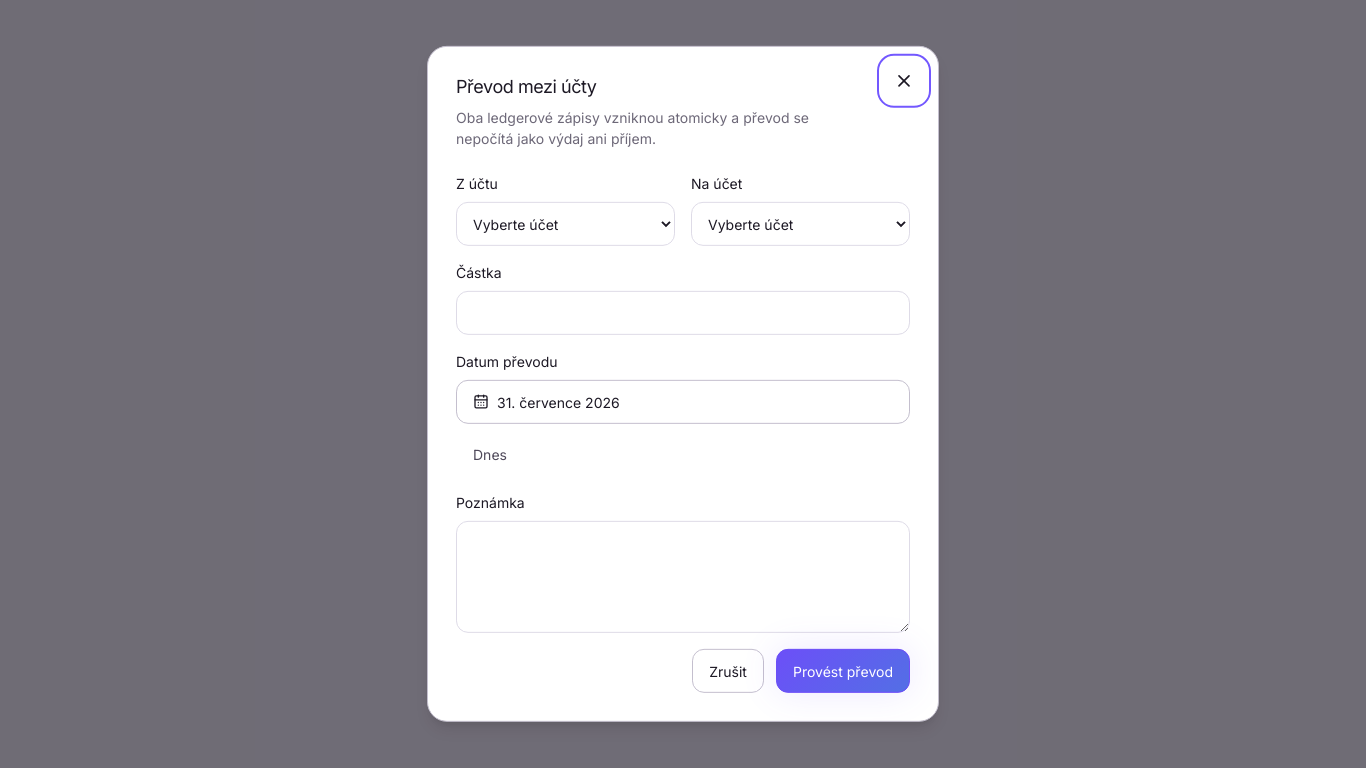
finance form contracts › rejects the same transfer account before any API mutation
The width and height of the screenshot is (1366, 768).
Select "Domácí účet · CZK" in the dropdown labelled "Z účtu" at (566, 224), box [456, 202, 675, 246]
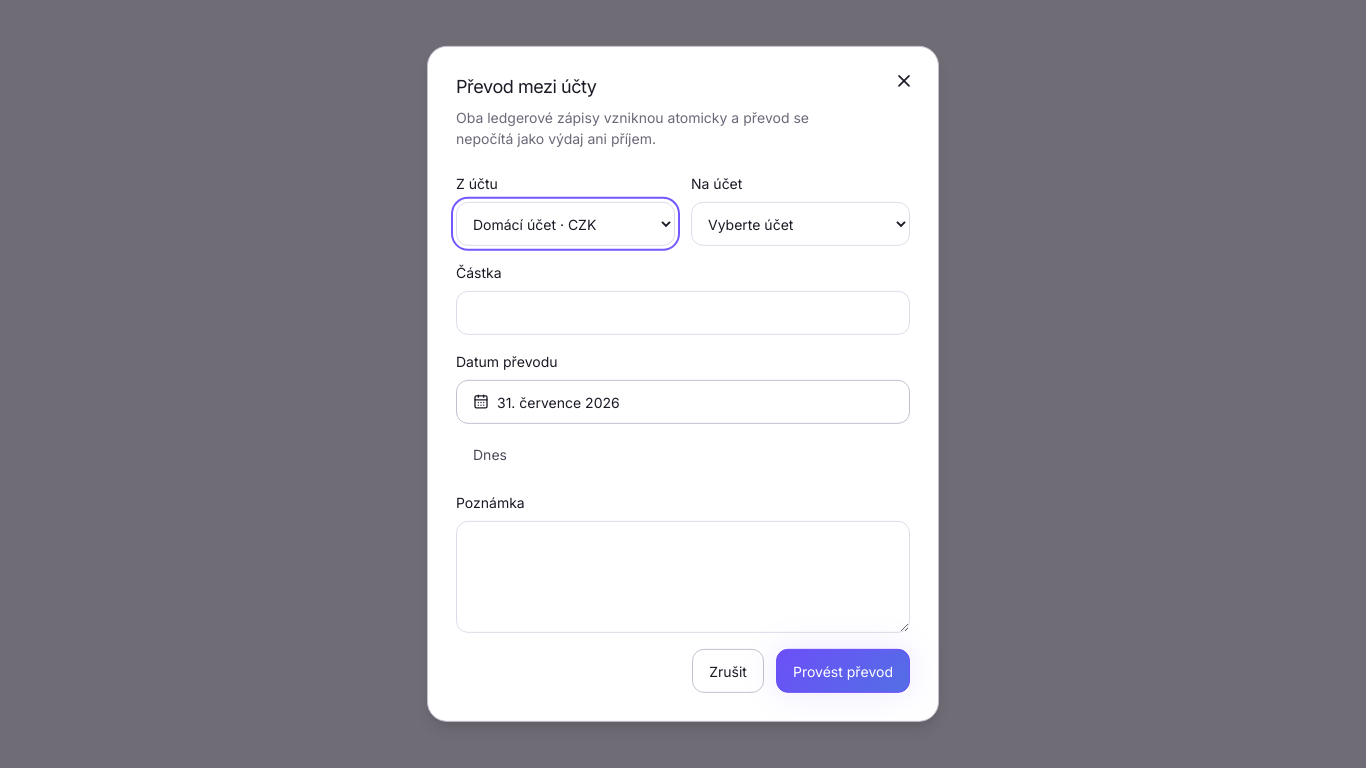
Select "Domácí účet · CZK" in the dropdown labelled "Na účet" at (800, 224), box [691, 202, 910, 246]
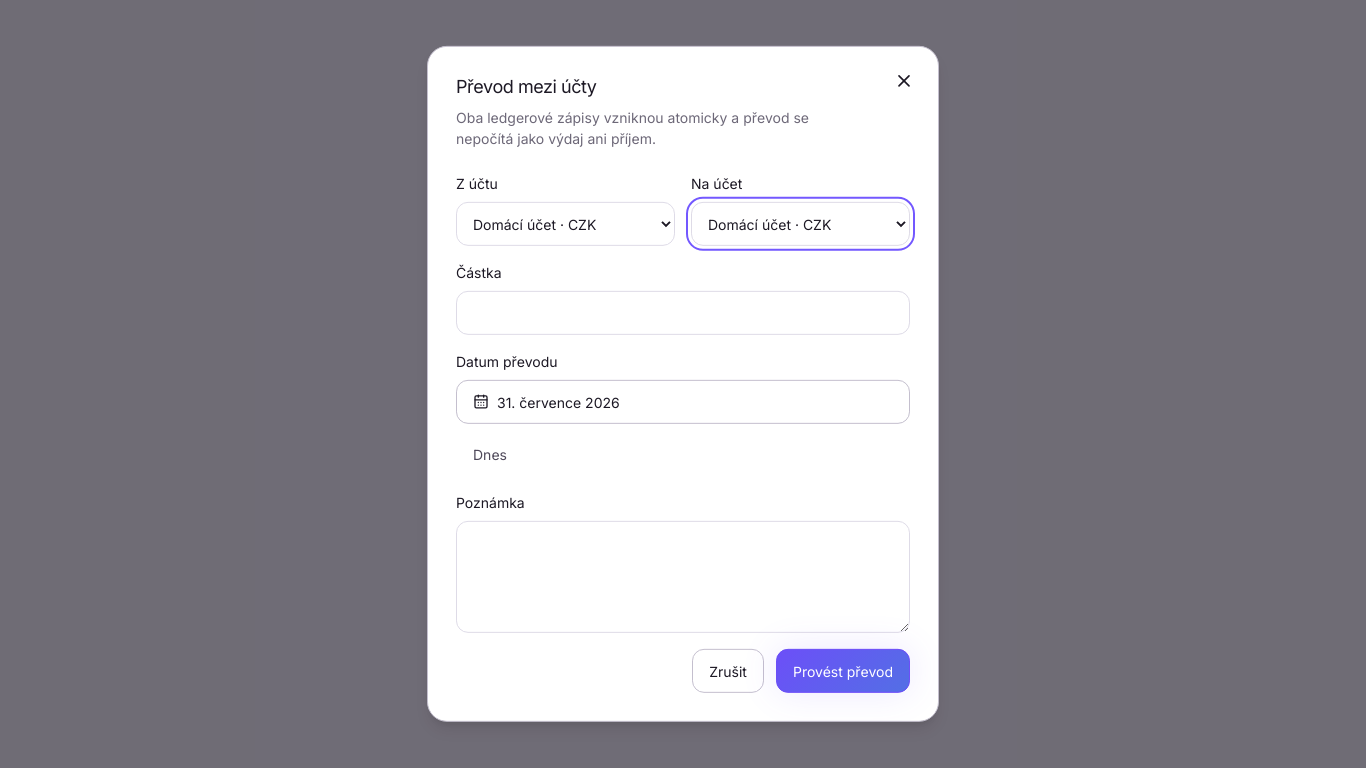
Type "100" into the field labelled "Částka" at (683, 313), box [456, 291, 910, 335]
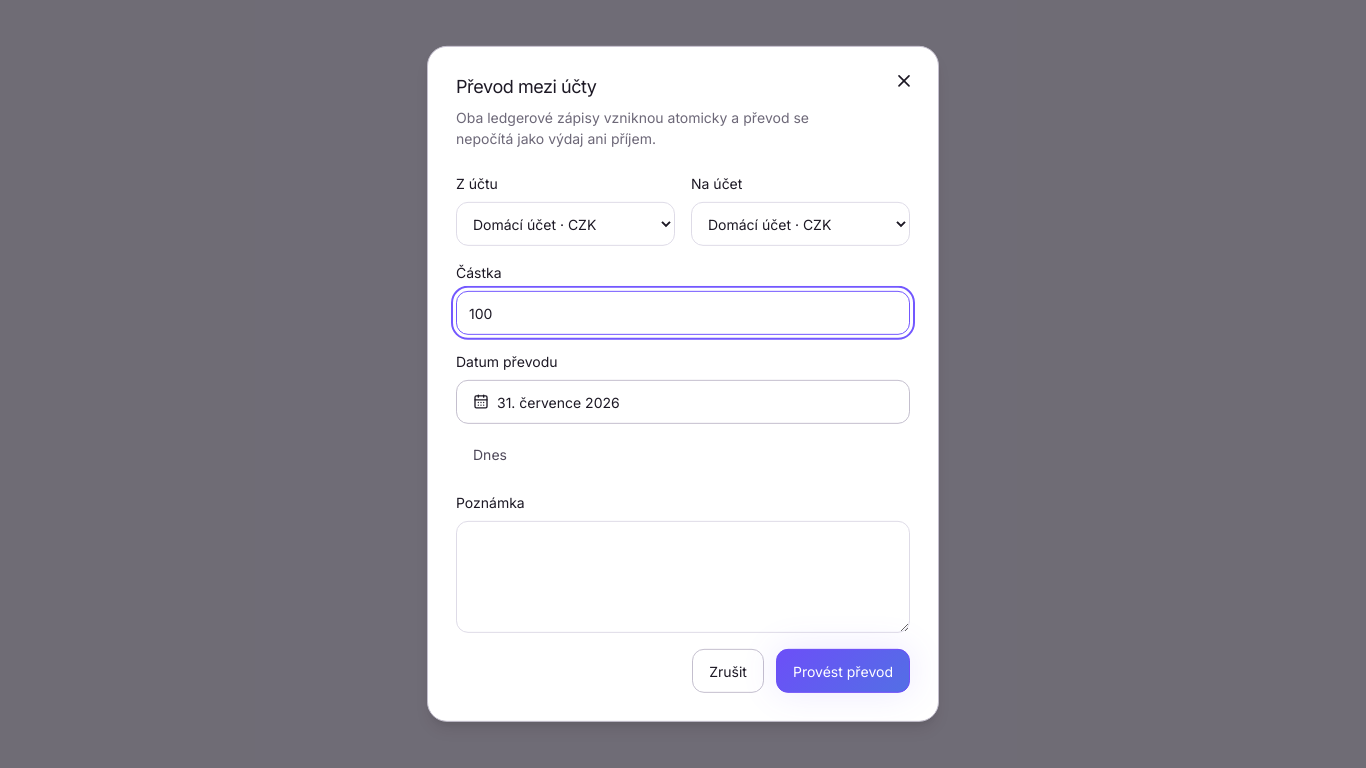
Click the button "Provést převod" at (843, 671), box [776, 649, 910, 693]
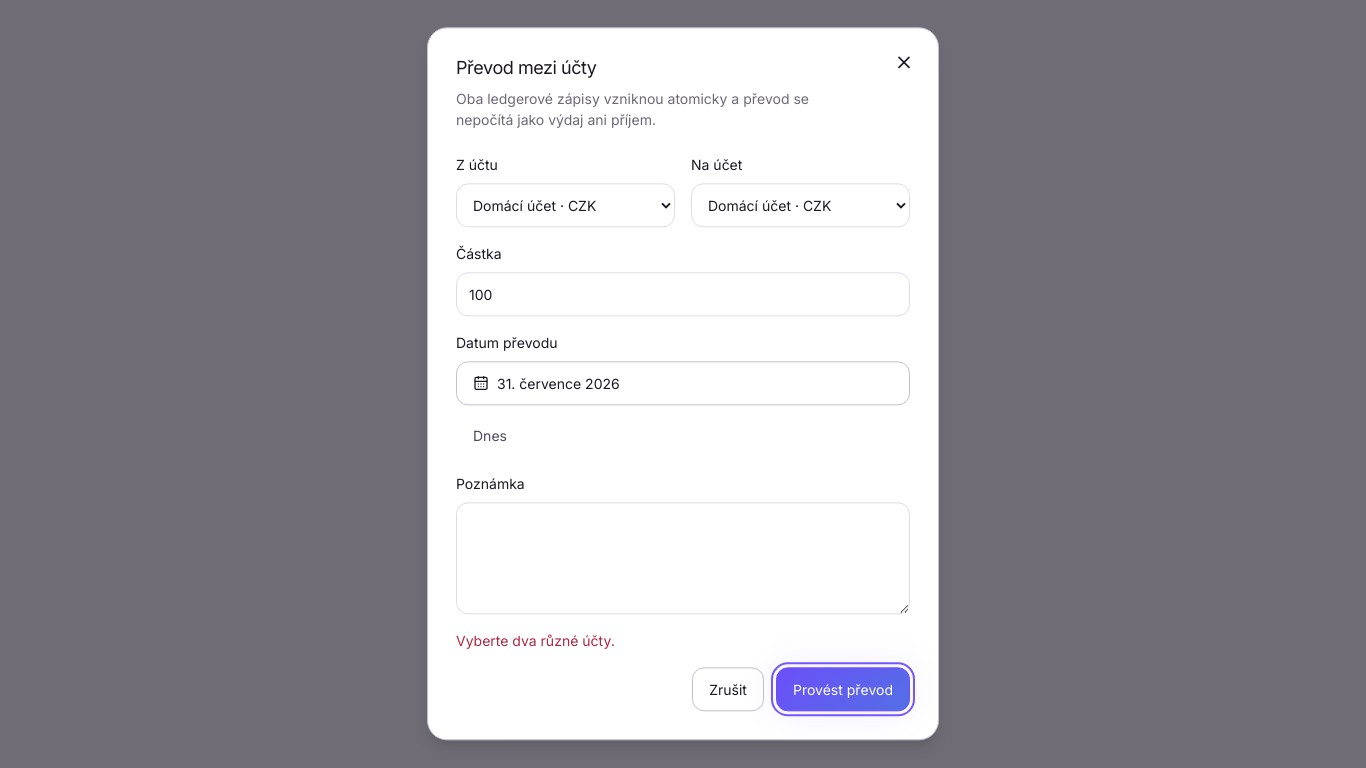
expect the message reads "Vyberte dva různé účty.": met, box [456, 633, 615, 650]
